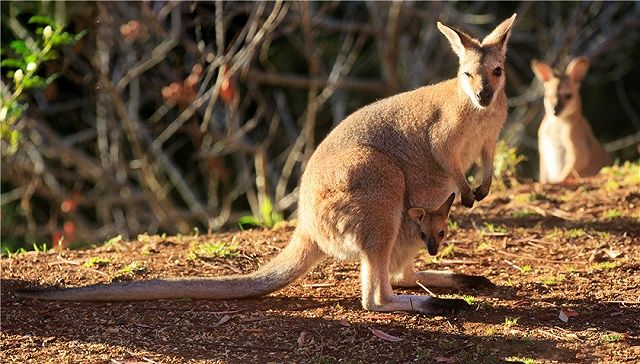kangaroo: (15, 15, 525, 317), (529, 53, 635, 189)
